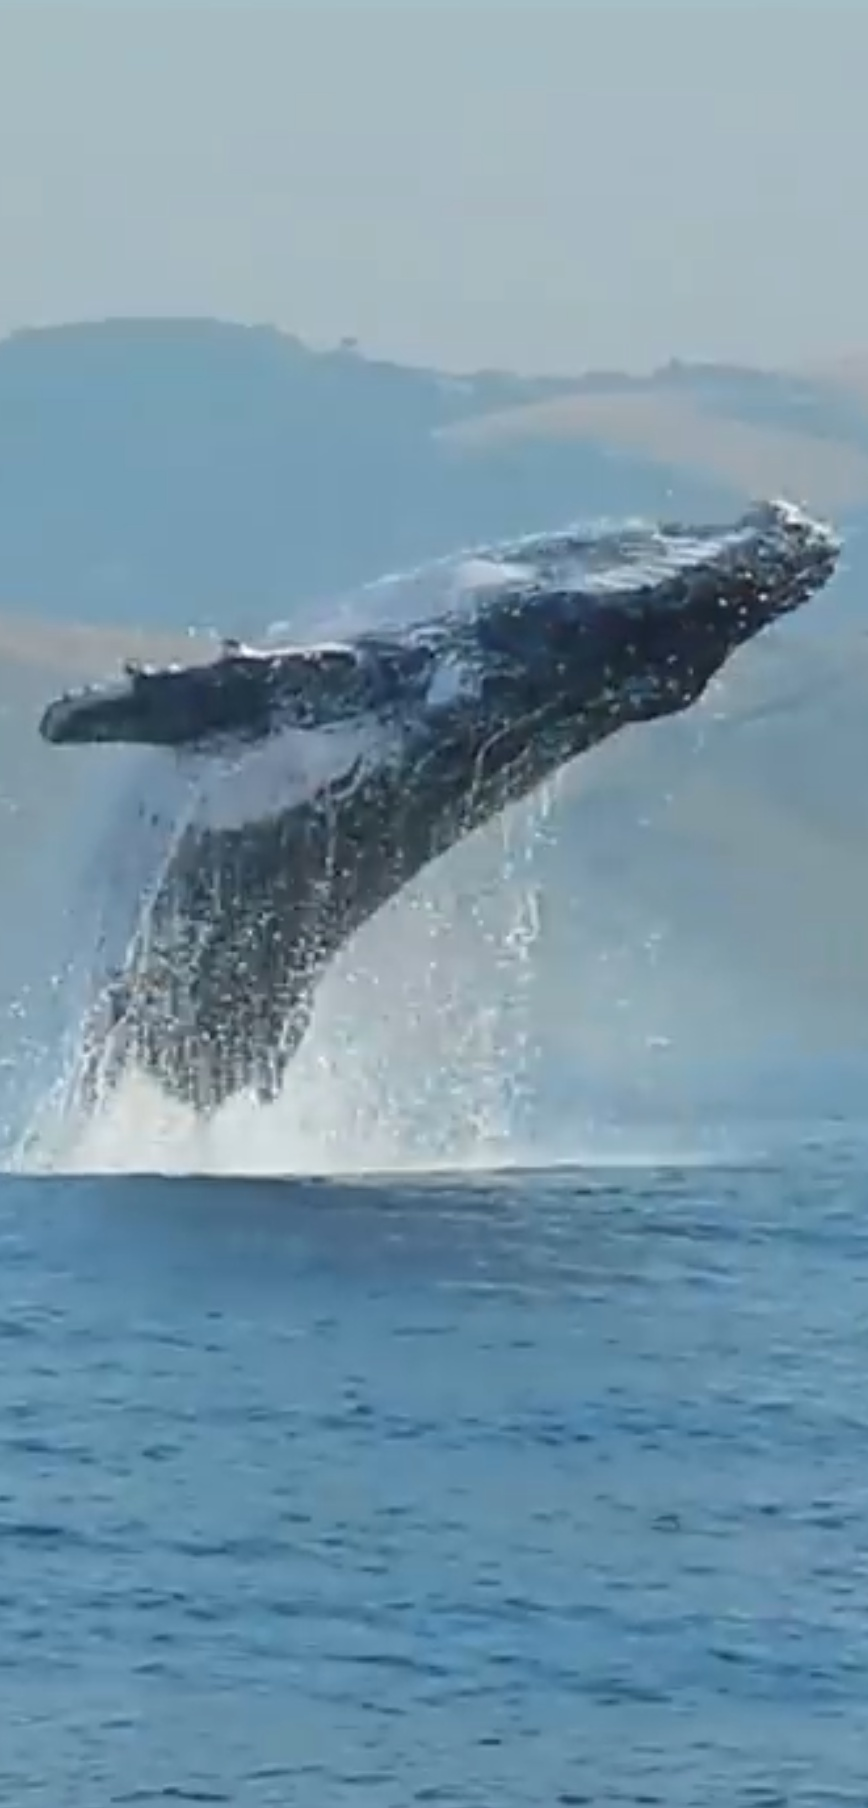humpback: (67, 474, 839, 1105)
